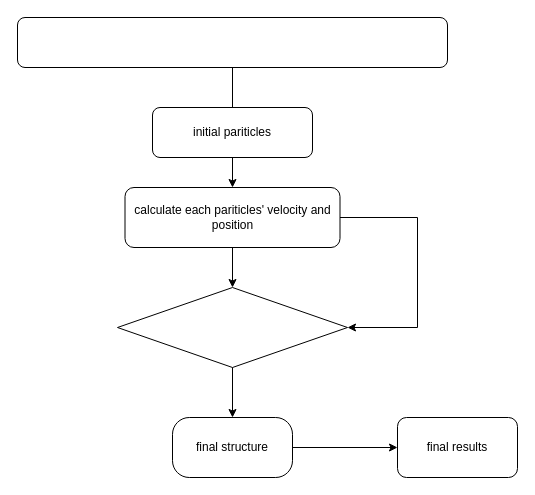
This 535x495 diagram has some shape labels left out. The shapes that lost their labels are listed below. From the top down, each one's centre as x and y in pixels, then its label:
At (232,42): "set the initial grating parameter range (period, duty cirle,etching depth)".
At (232,327): "meet the FOM?".
